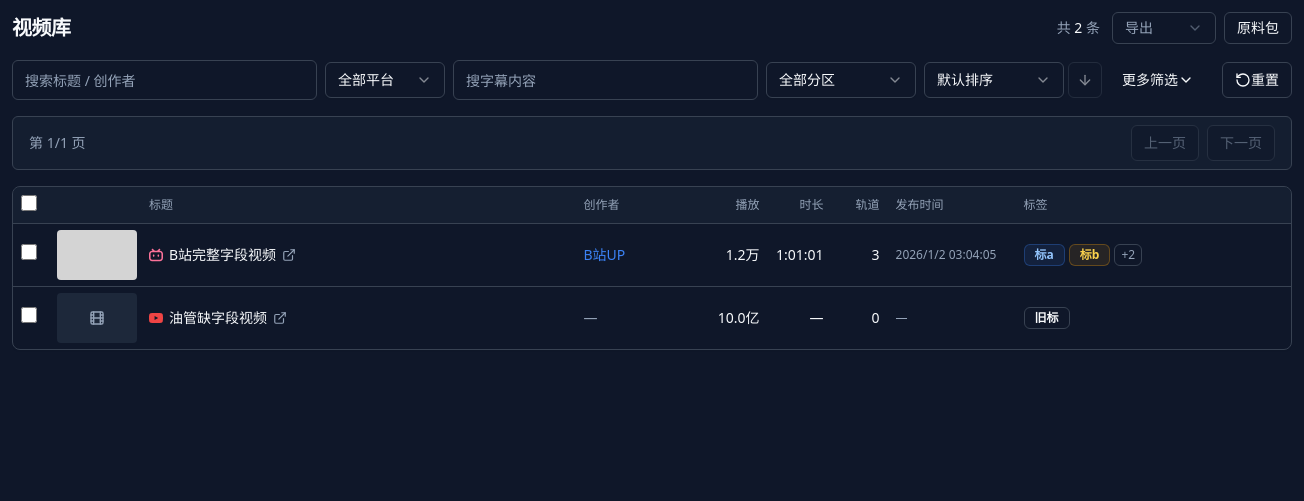
Test: 档位文案：bili 档显示「平台自带」（抖音话题标签同入此档，不再叫「B站」）
The image size is (1304, 501).
expect the text "B站完整字段视频" is shown: met, box top-left (169, 244), bottom-right (276, 264)
Click the button "更多筛选".
click(1162, 80)  # box top-left (1110, 62), bottom-right (1214, 98)
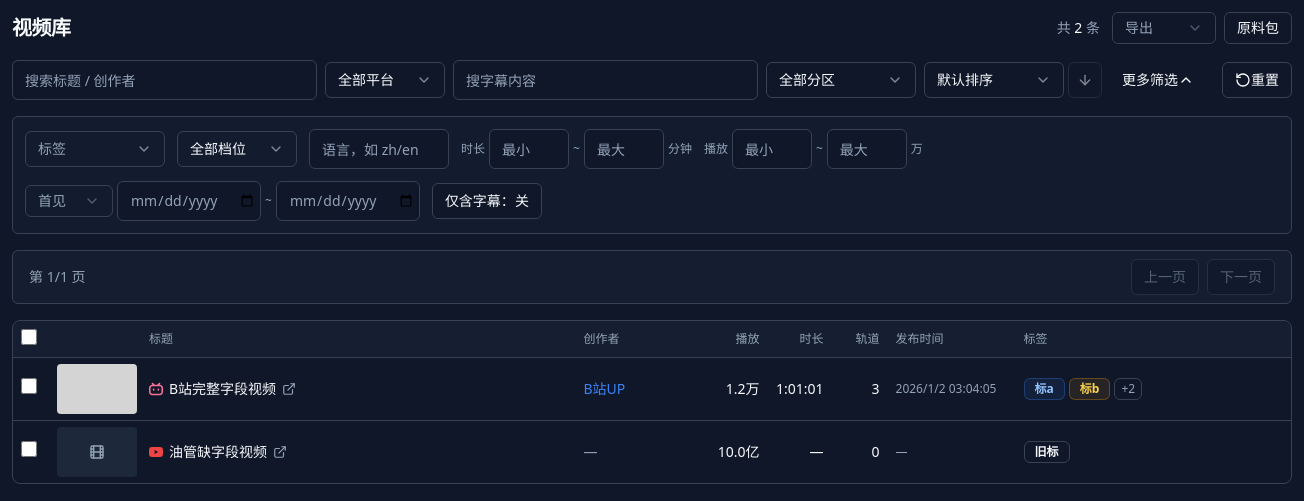
Click the dropdown "全部档位".
click(237, 149)  # box top-left (177, 131), bottom-right (297, 167)
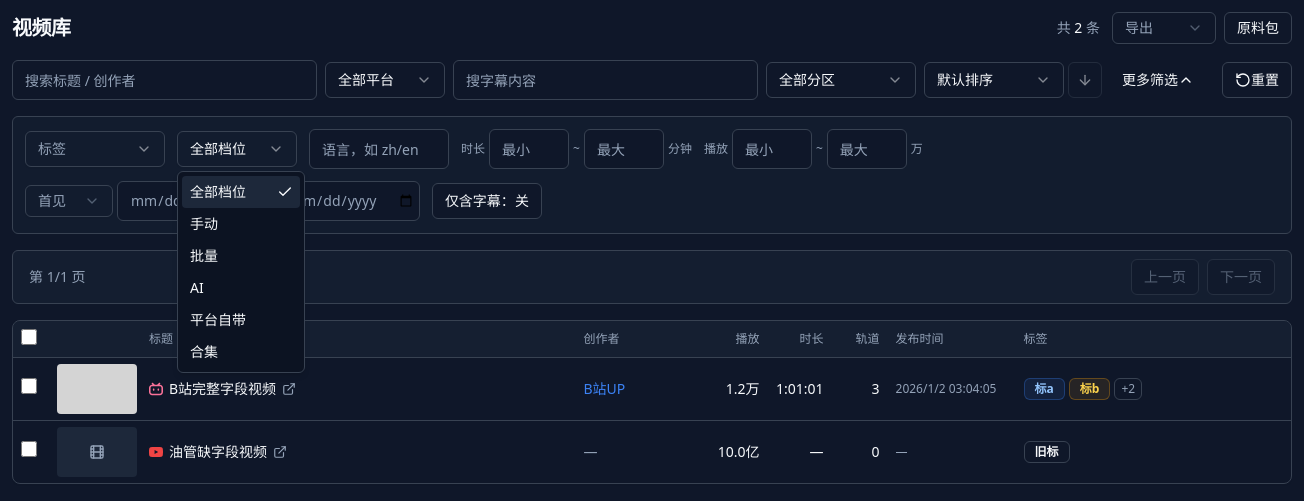
expect the option "平台自带" is shown: met, box top-left (190, 310), bottom-right (246, 329)
